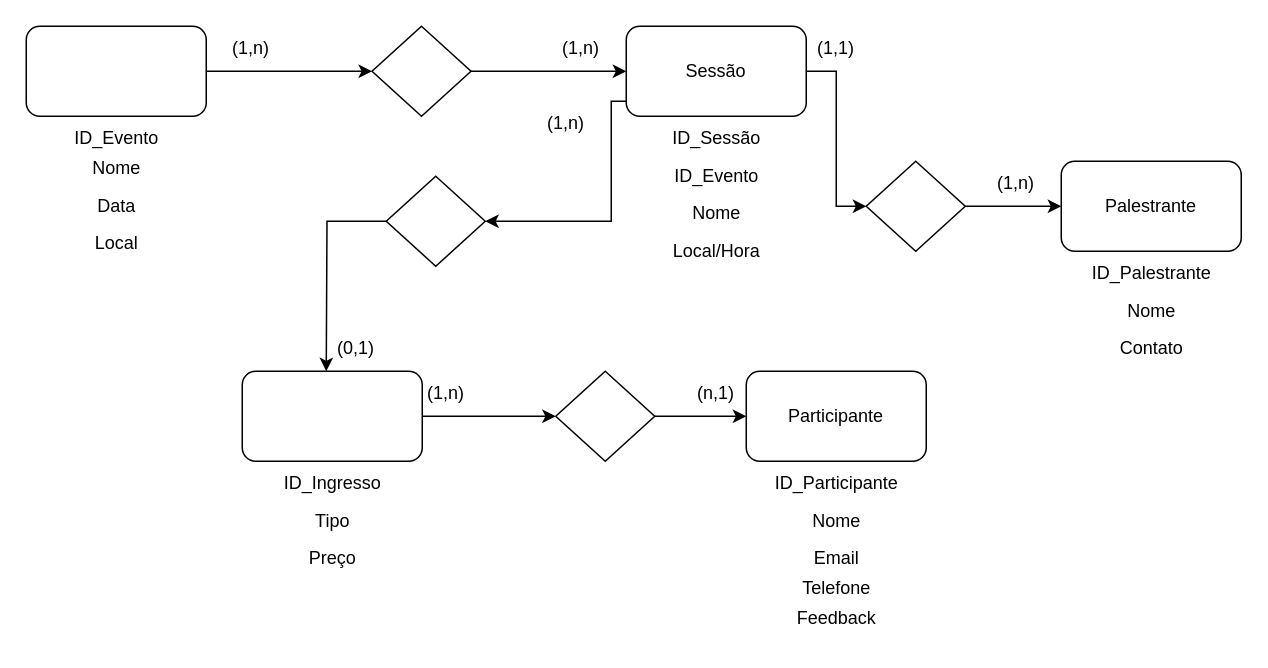
The diagram is 1268 pixels wide and 668 high, and some of its shapes have lost their labels. The shapes that lost their labels are listed below. From the top down, each one's box as (x1, y1, x2, y2) in pixels, then its label:
(25, 25, 206, 116): Evento
(241, 370, 422, 461): Ingresso
